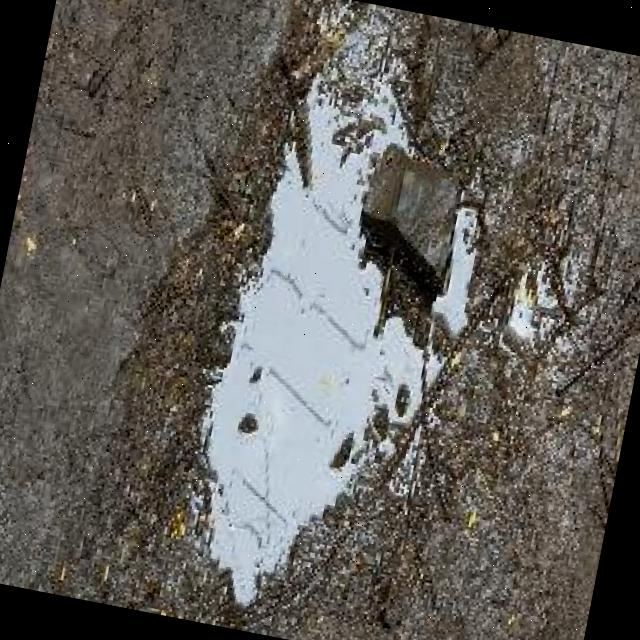waterlogging: (138, 5, 567, 640)
